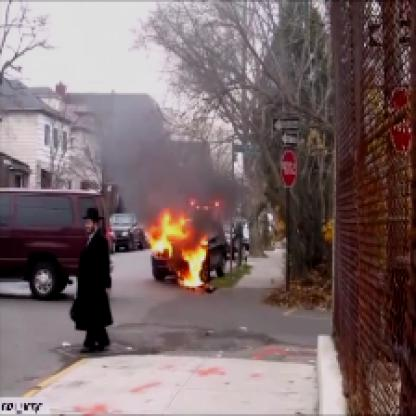Fire: (151, 202, 219, 301)
